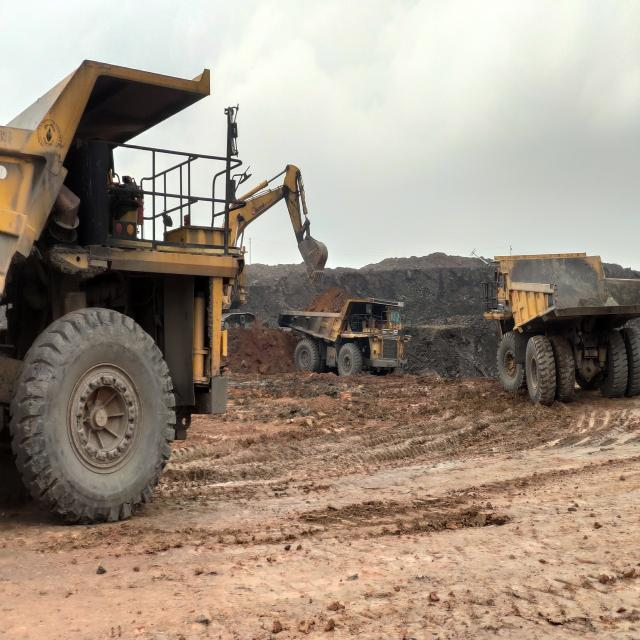dump_truck: (0, 60, 249, 524), (481, 254, 640, 407), (278, 290, 412, 378)
excavator: (223, 164, 328, 286)
